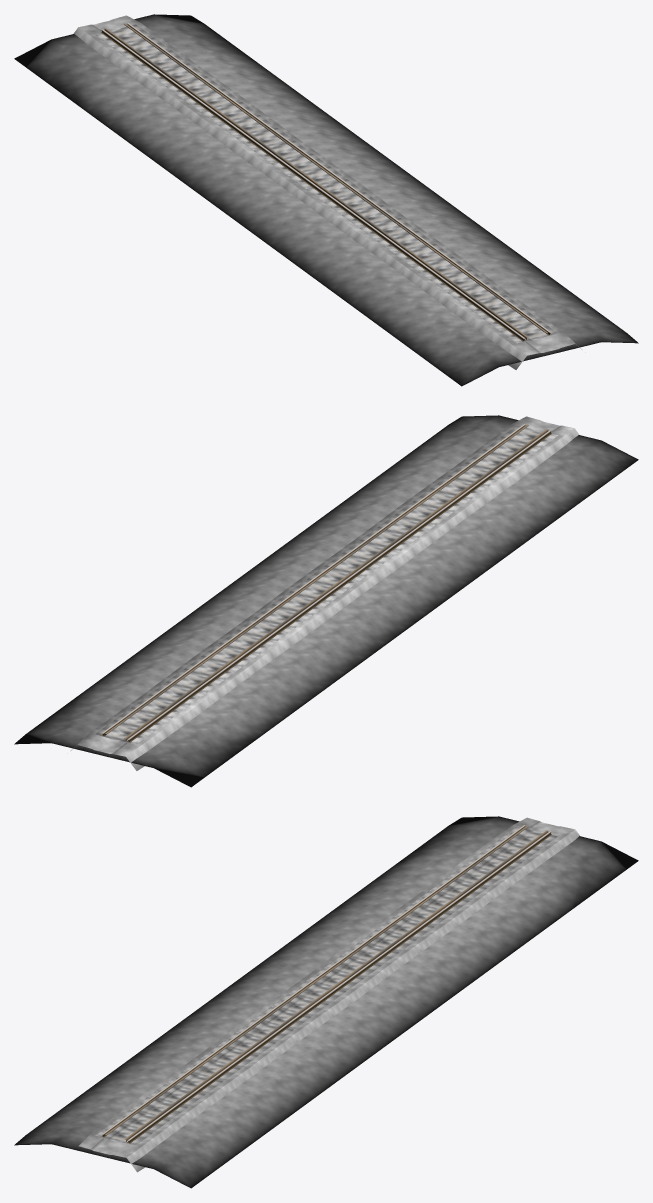
Rendered from NK_1RAIL_100_JIMEN.glb.
3 renders of one model, top to bottom at view 1: azimuth 30°, elevation 25°; view 2: azimuth 150°, elevation 25°; view 3: azimuth 330°, elevation 25°, orthographic.
Parts seen in each view (by area): view 1: obj1, R000_RG_R, R000_RG_L; view 2: obj1, R000_RG_R, R000_RG_L; view 3: obj1, R000_RG_L, R000_RG_R.
Boxes of the visible parts, x1,y1,x2,y2 form: obj1: (14, 14, 638, 386); R000_RG_R: (104, 28, 528, 339); R000_RG_L: (124, 23, 547, 333); obj1: (14, 415, 638, 787); R000_RG_R: (124, 429, 548, 740); R000_RG_L: (104, 424, 528, 735); obj1: (14, 816, 638, 1188); R000_RG_L: (124, 830, 548, 1141); R000_RG_R: (105, 825, 528, 1135).
Size of the model in its own units: 24.42 by 2.65 by 106.
Materials: 7 (6 with a texture image).
